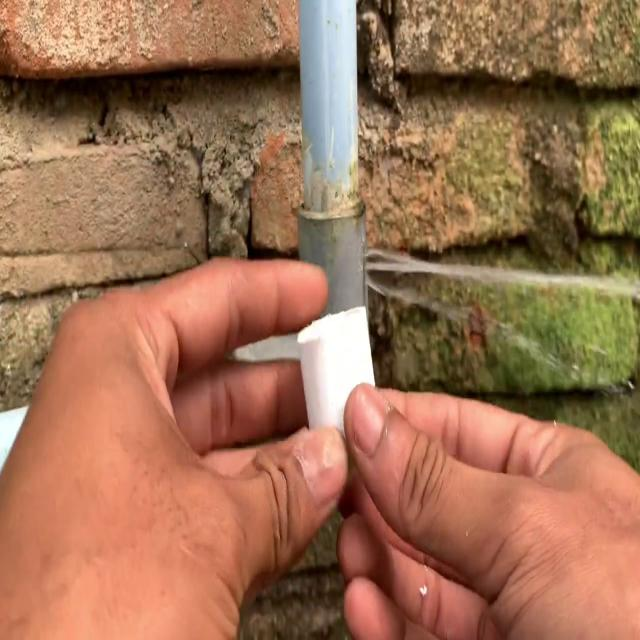leak: (364, 250, 640, 298)
